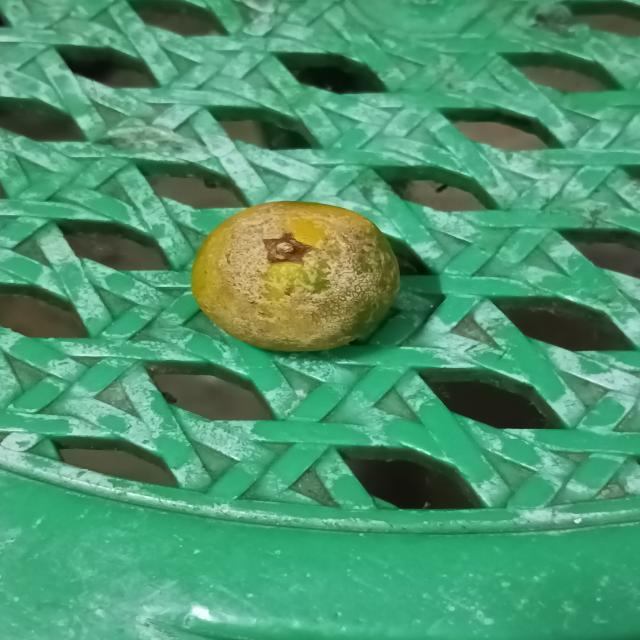thrips: (182, 197, 401, 355)
